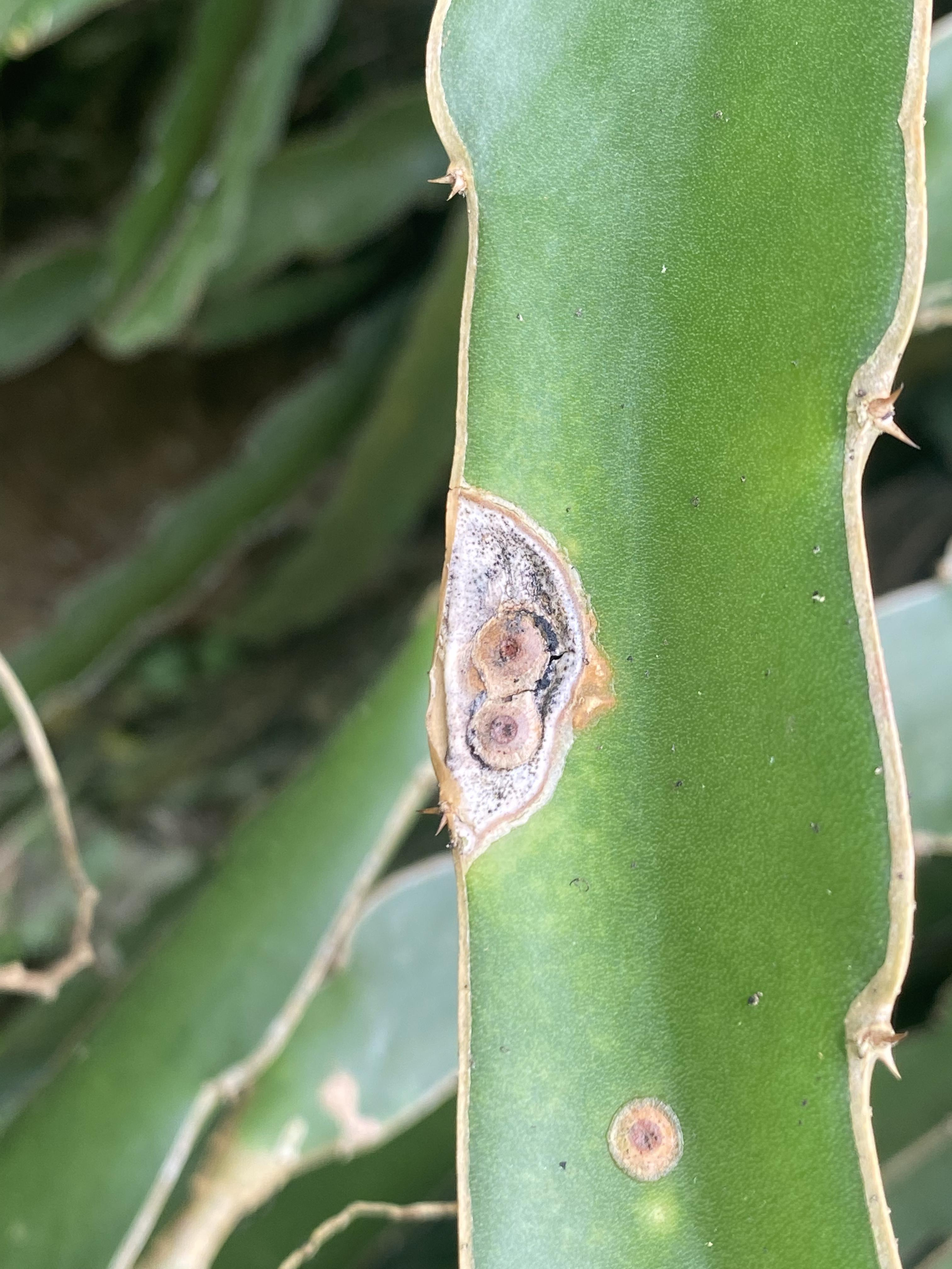stemcanker: (420, 467, 623, 872), (600, 1089, 690, 1189)
